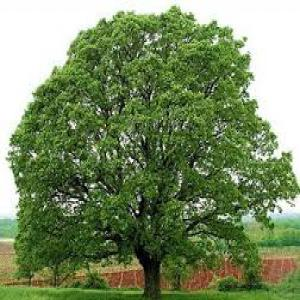Tree: (6, 3, 299, 297)
